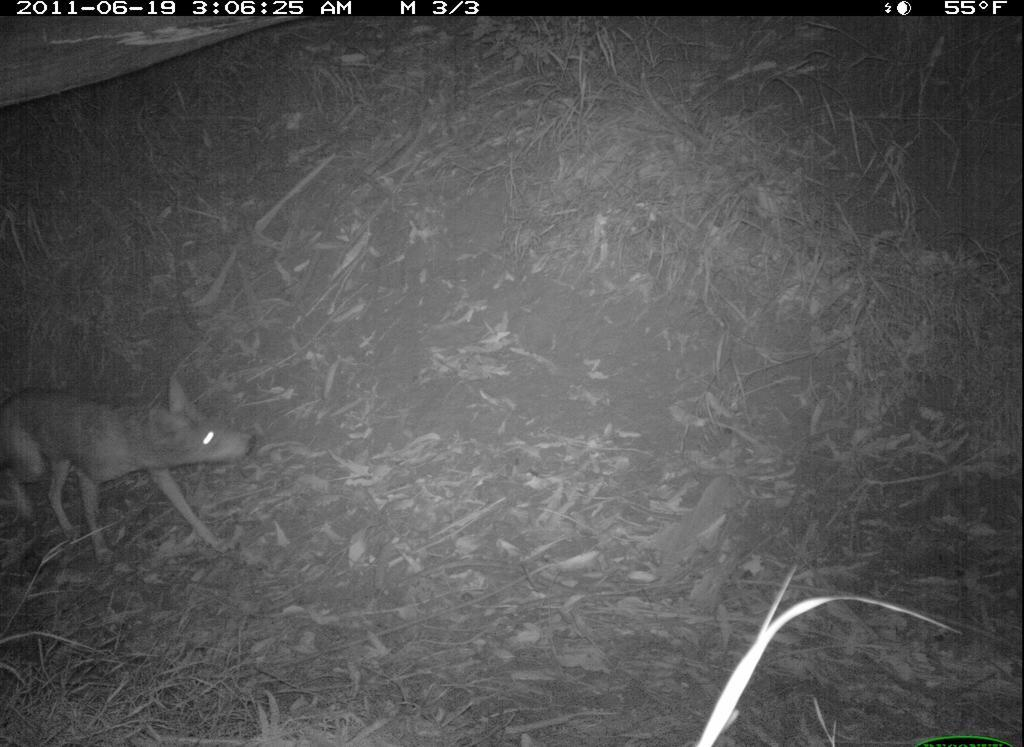coyote: (4, 370, 260, 571)
